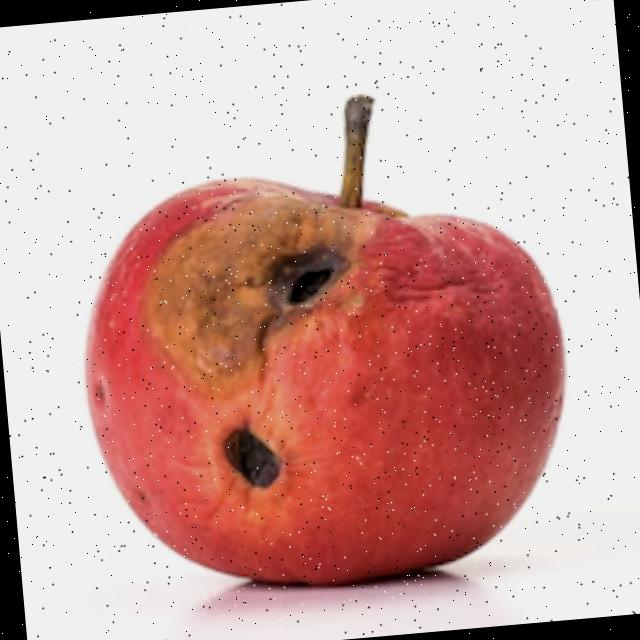Rotten: (66, 145, 585, 606)
